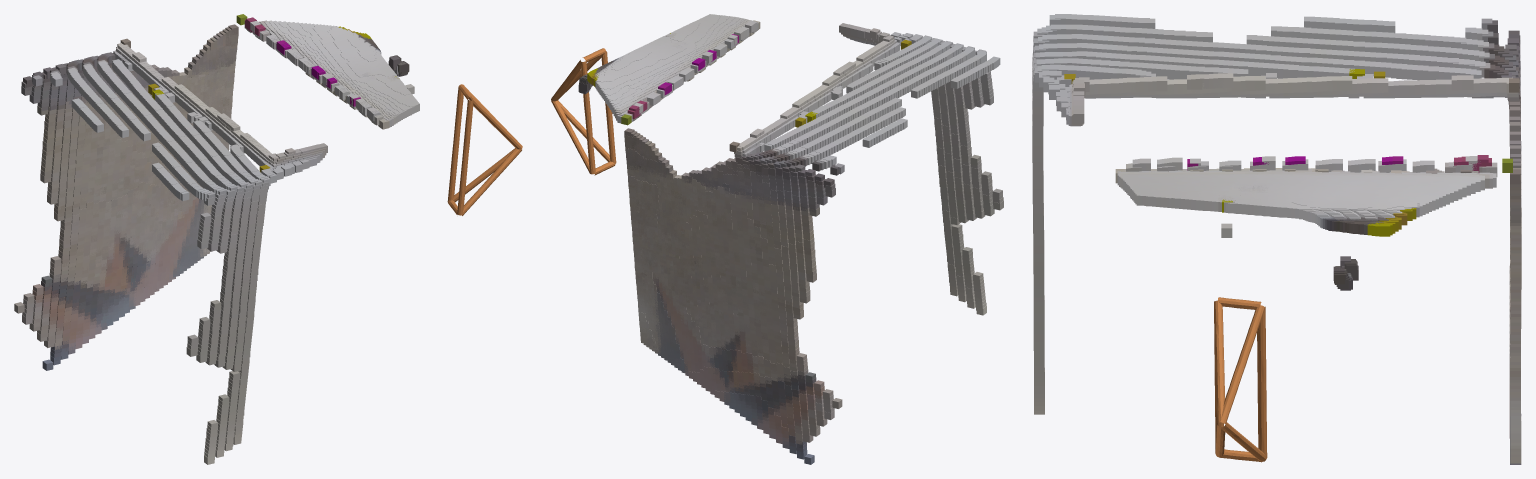
3 views of the same model, side by side, from view 1: azimuth 30°, elevation 25°; view 2: azimuth 150°, elevation 25°; view 3: azimuth 270°, elevation 25° (orthographic). The views are drawn at different scales.
Size of the model in its own units: 2.97 by 2.19 by 2.23.
